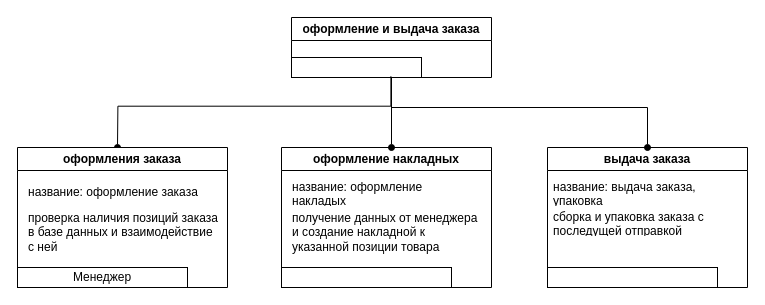
Image size: 765x305. Some labels were removed from this diagram. Each missing label, with the centre of its shape:
Бухгалтер: (366,277)
Кладовщик: (632,277)
Система: (356,67)
